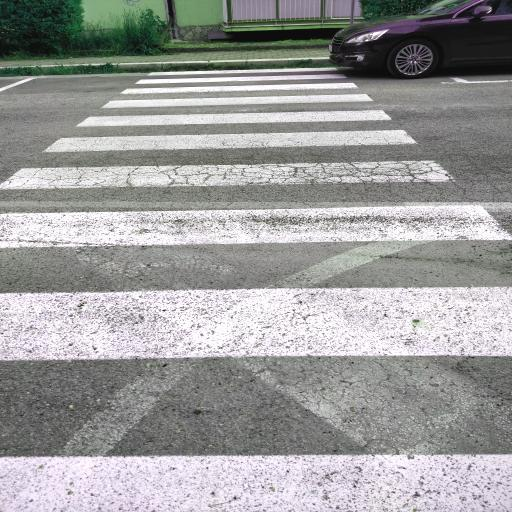crosswalk: (0, 198, 511, 374), (38, 107, 428, 156)
